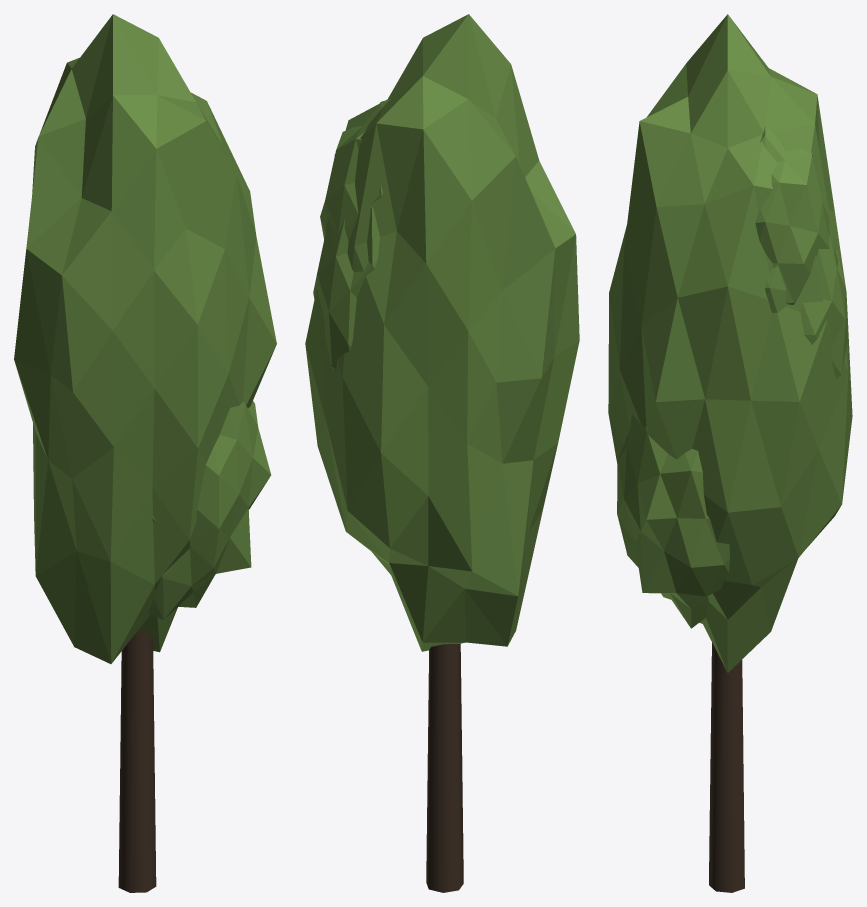
File: tree-poplar-1.obj
3 renders of one model, left to right at view 1: azimuth 30°, elevation 25°; view 2: azimuth 150°, elevation 25°; view 3: azimuth 270°, elevation 25°, orthographic. The views are drawn at different scales.
Visible parts, largest first — view 1: part1; view 2: part1; view 3: part1.
Part boxes in pixels (x1,y1,x2,y2): part1: [14, 14, 276, 892]; part1: [305, 14, 579, 892]; part1: [608, 14, 852, 892].
Bounding box in the file's own units: 2.67 × 10.01 × 2.58.
